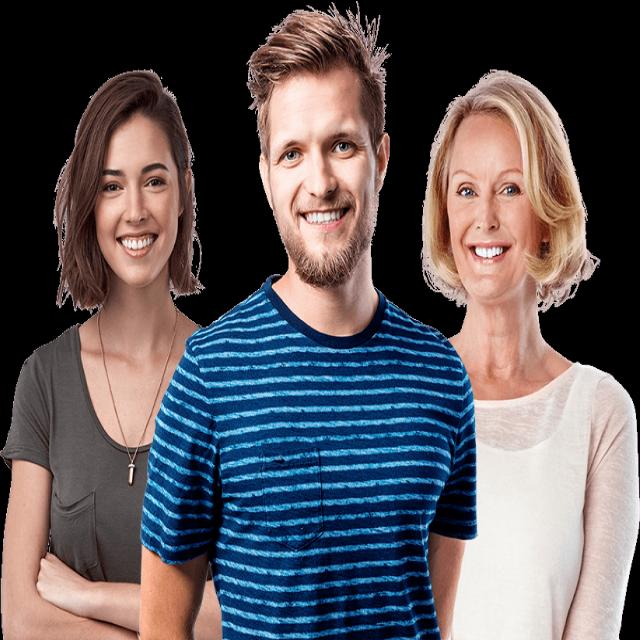adult: (141, 7, 475, 640), (1, 69, 221, 640), (421, 71, 640, 640)
